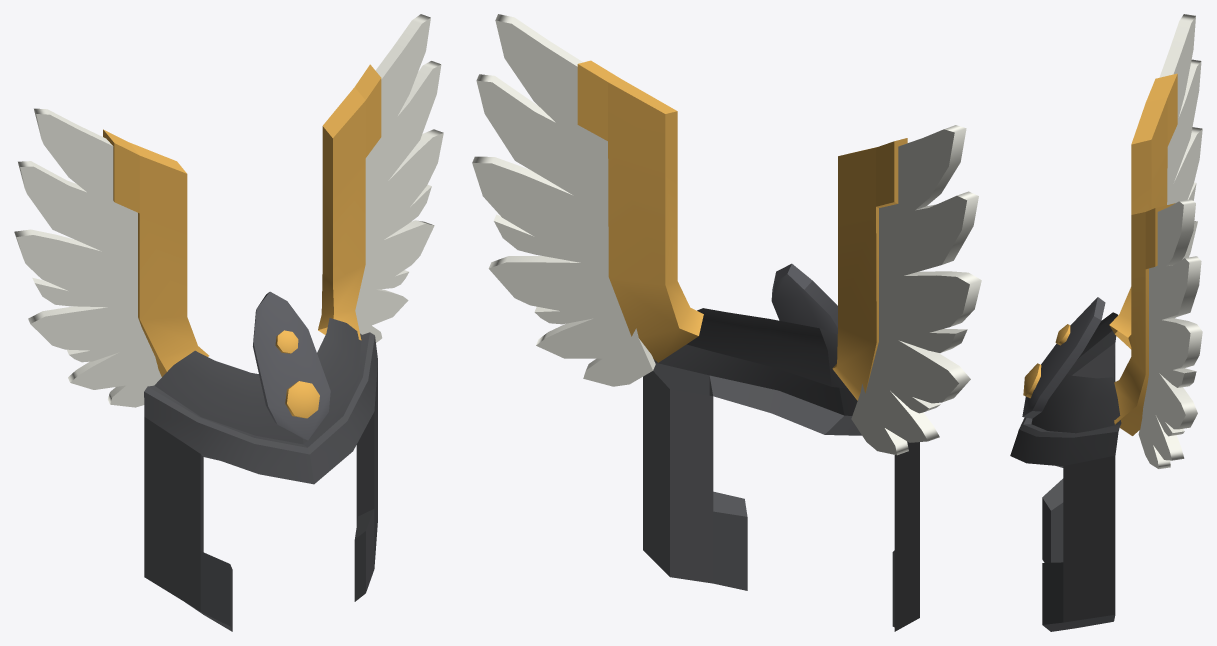
Rendered from Headgear_17.fbx.
3 views of the same model, side by side, from view 1: azimuth 30°, elevation 25°; view 2: azimuth 150°, elevation 25°; view 3: azimuth 270°, elevation 25° (orthographic). The views are drawn at different scales.
Parts seen in each view (by area): view 1: Headgear_17; view 2: Headgear_17; view 3: Headgear_17.
Part boxes in pixels (x1,y1,x2,y2): Headgear_17: (14,14,443,631); Headgear_17: (472,14,981,631); Headgear_17: (1010,14,1202,631).
Bounding box in the file's own units: 105 × 118 × 41.34.
